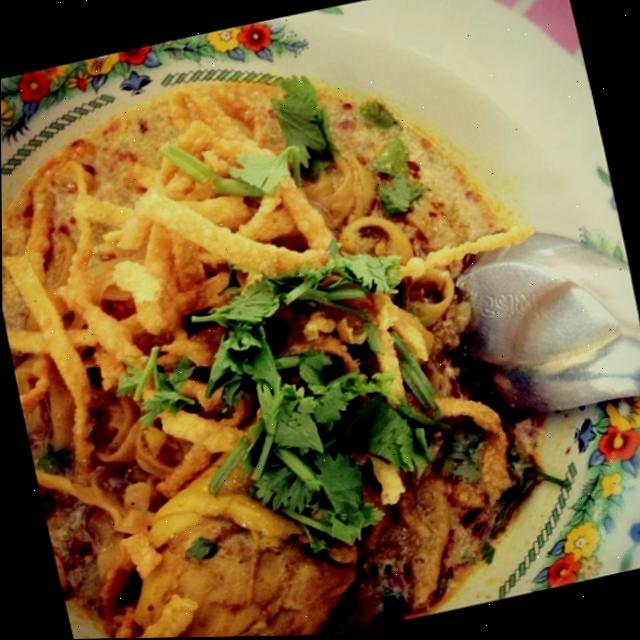面条主食: (0, 12, 624, 640)
